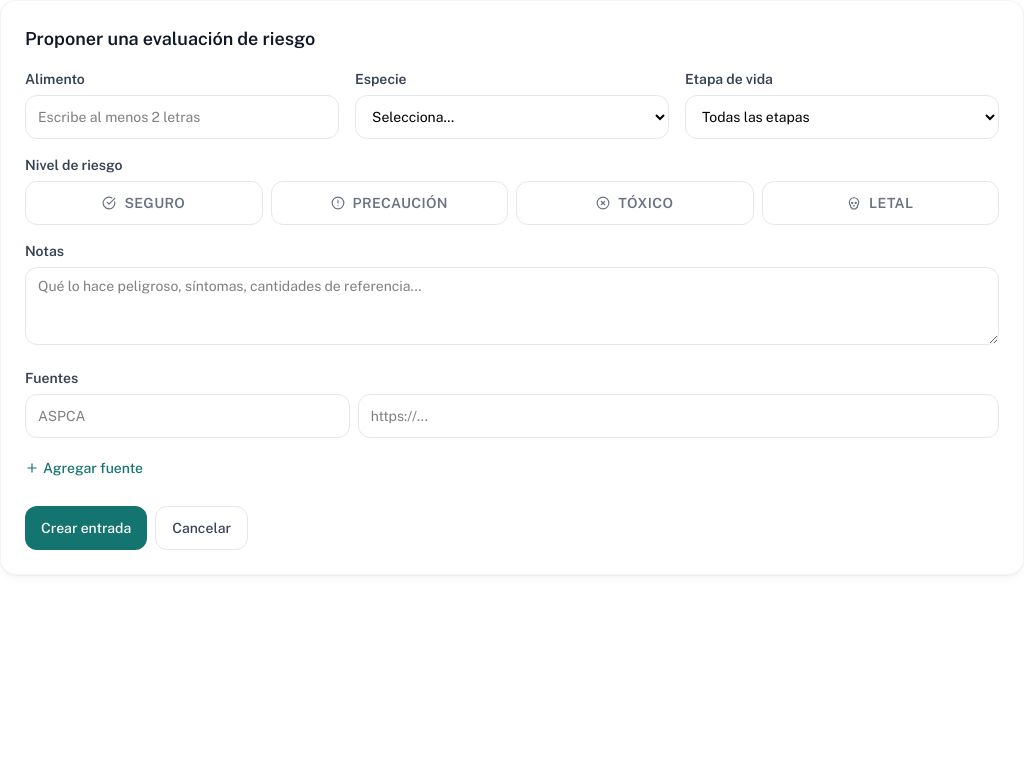
Test: ProposeEntryForm › rejects a typed name that does not match any suggestion
Type "Choco" into the field labelled "Alimento" at (182, 117), box [25,95,339,139]
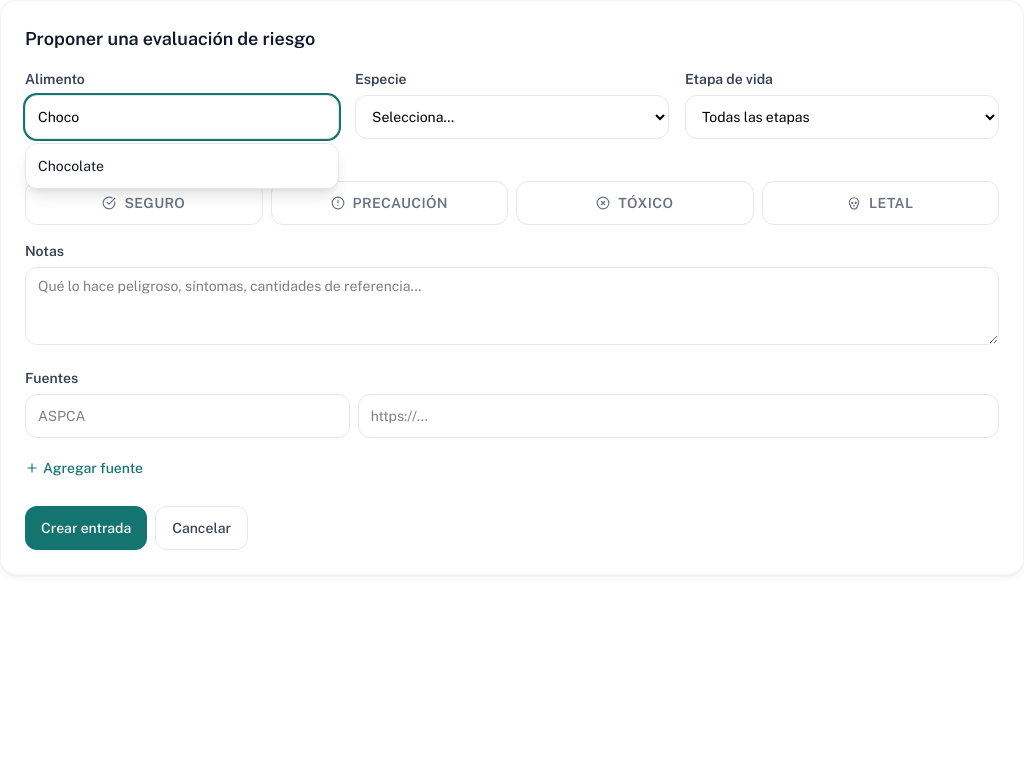
Select "Gato" in the dropdown labelled "Especie" at (512, 117), box [355,95,669,139]
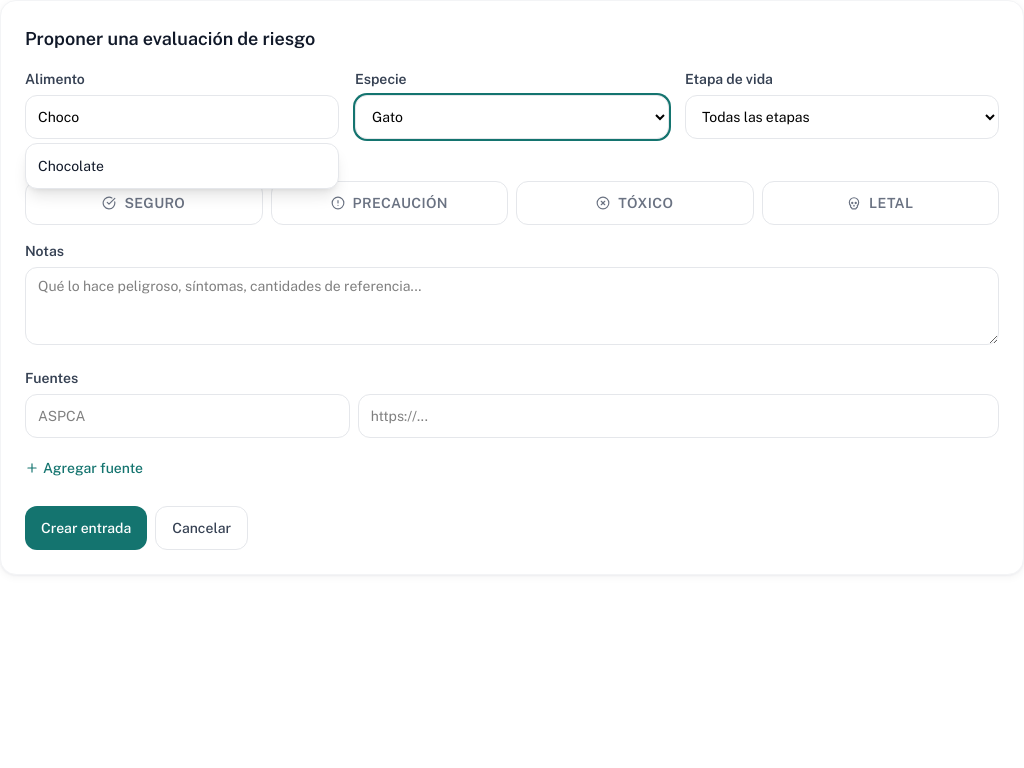
Click the radio button labelled "TÓXICO" at (635, 203), box [516,181,754,225]
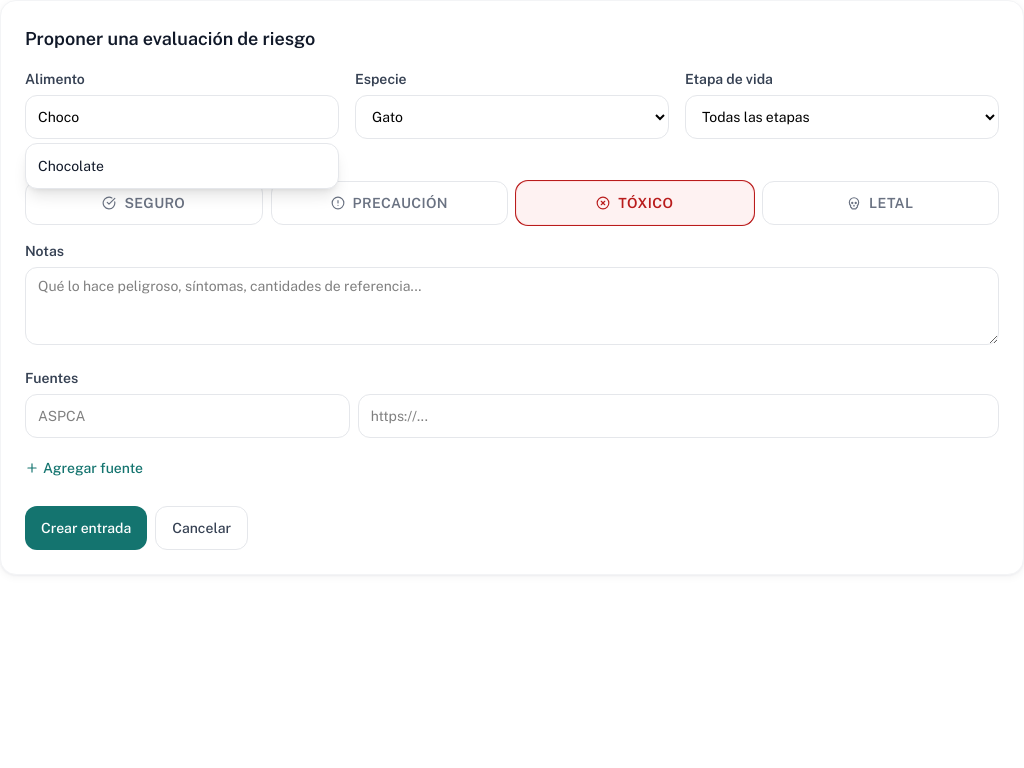
Click the button "Crear entrada" at (86, 528), box [25,506,147,550]
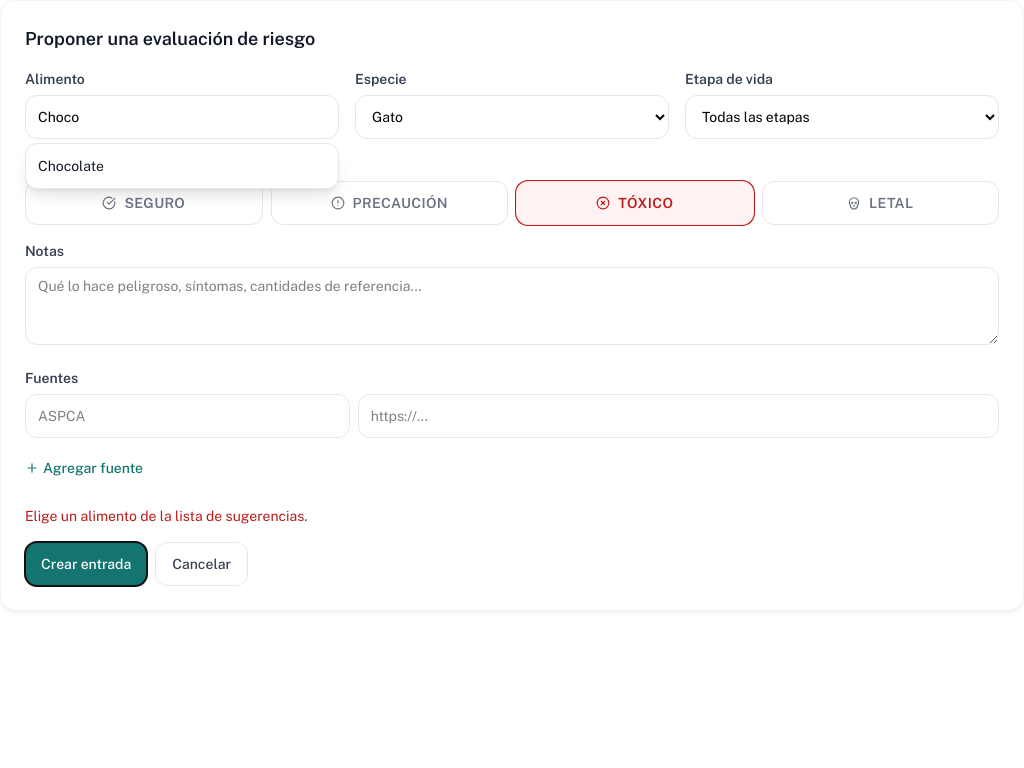
Now the message reads "Elige un alimento de la lista de sugerencias.", box [25,508,307,524]
